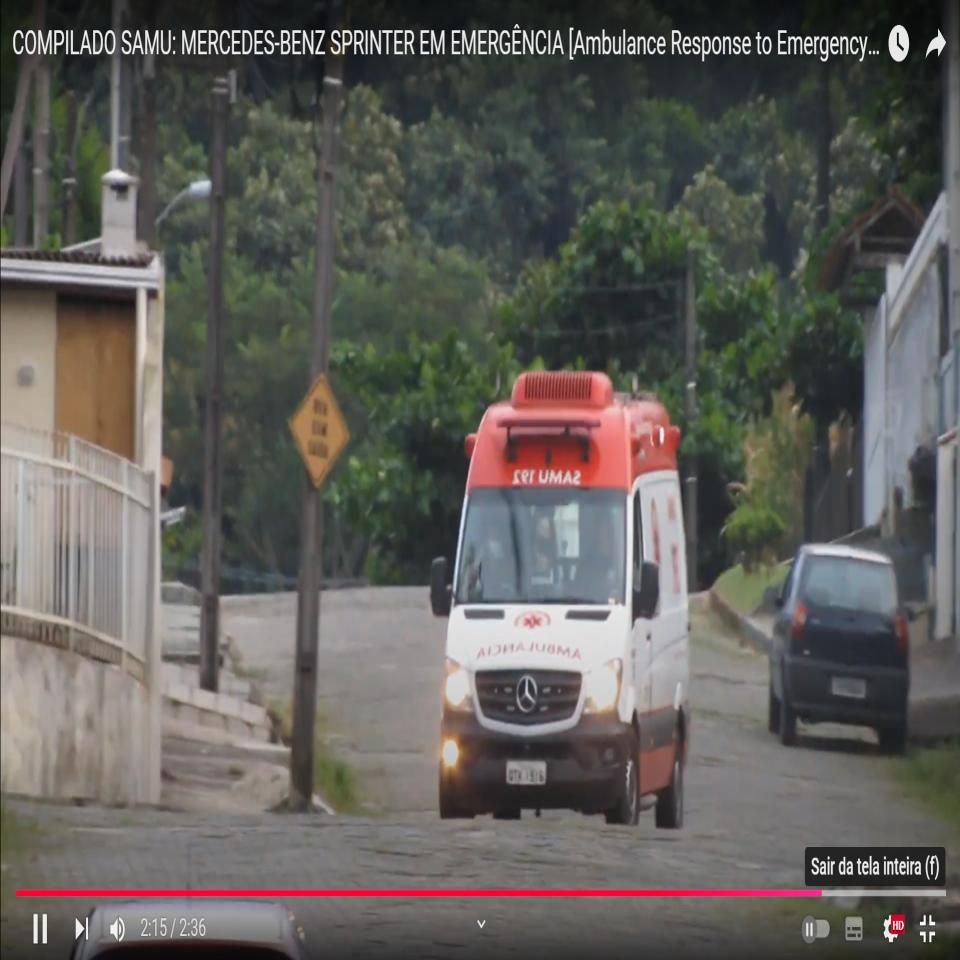bombeiro: (429, 368, 693, 830)
